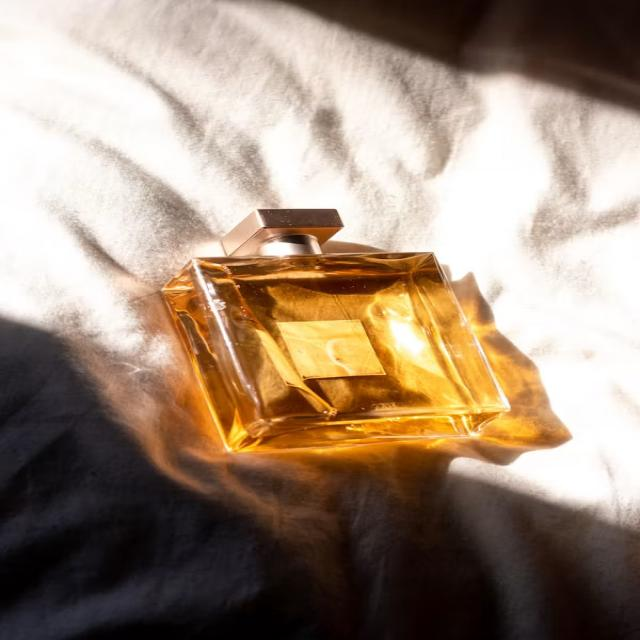Bottle: (163, 210, 508, 450)
